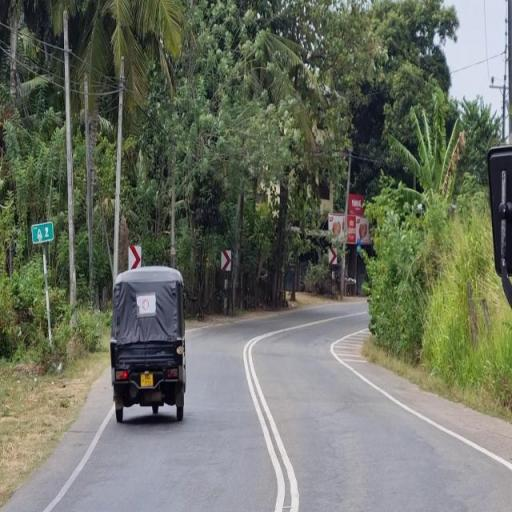double_white_line: (243, 328, 295, 510), (44, 406, 110, 510)
